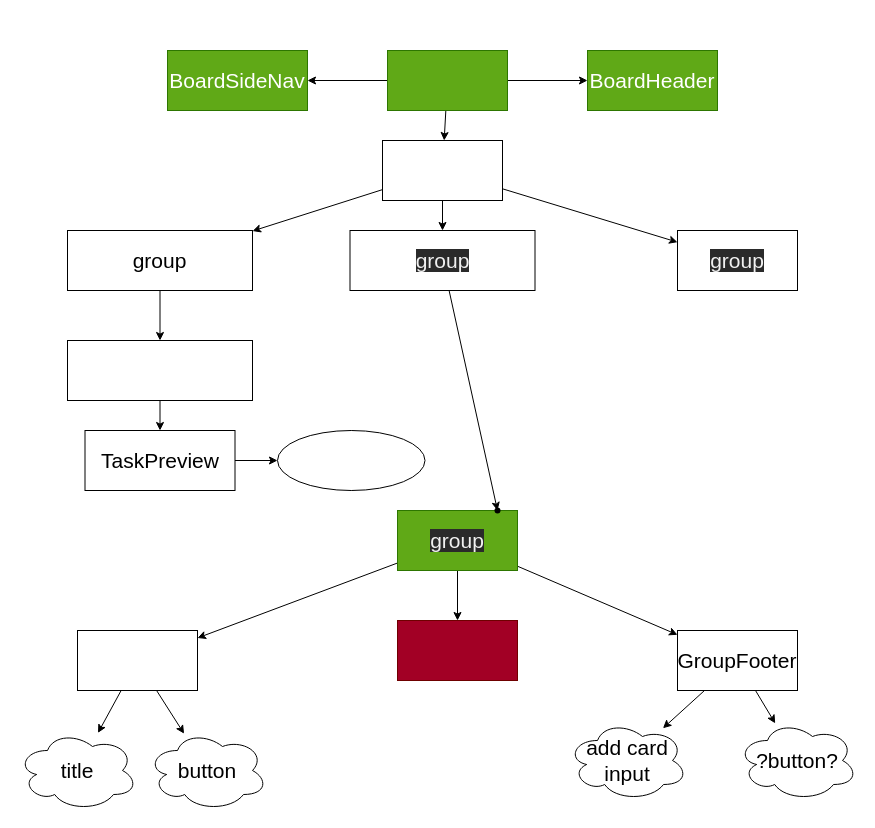
The diagram is 875 pixels wide and 828 high, and some of its shapes have lost their labels. The box of each missing label's shape, as (x1, y1, x2, y2) in pixels:
(TaskList): (396, 620, 518, 680)
Board: (386, 50, 508, 110)
GroupHeader: (76, 630, 198, 690)
GroupList: (382, 140, 502, 200)
TaskDetails: (276, 430, 425, 490)
TaskList: (66, 340, 252, 400)
